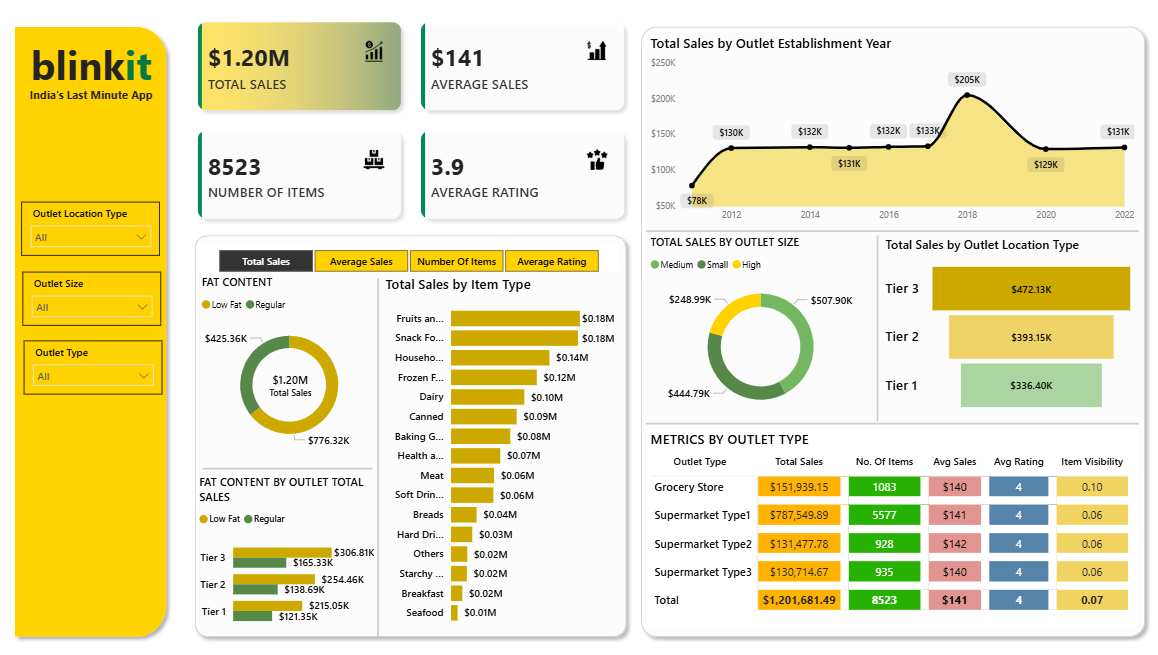

Layout of this report page (visuals, bound fields, positions):
{"tool":"powerbi","page":{"name":"Dashboard ","canvas":[1400,800],"ordinal":1},"visuals":[{"type":"shape","box":[15,25.5,199.6,750.4],"z":0},{"type":"textbox","box":[25.5,42,180.1,75],"z":1000},{"type":"textbox","box":[28.5,102.1,174.1,28.5],"z":2000},{"type":"cardVisual","fields":{"Data":["BlinkIT Grocery Data.Total Sales","BlinkIT Grocery Data.Average Sales","BlinkIT Grocery Data.Number Of Items","BlinkIT Grocery Data.Average Rating"]},"box":[214.6,0,570.3,295.7],"z":3000},{"type":"shape","box":[231.1,276.2,535.8,499.8],"z":4000},{"type":"donutChart","title":"FAT CONTENT BY TOTAL SALES","fields":{"Y":["BlinkIT Grocery Data.Total Sales"],"Category":["BlinkIT Grocery Data.Item Fat Content"]},"box":[243.1,331.7,220.6,220.6],"z":5000},{"type":"slicer","fields":{"Values":["Metrics.Metrics"]},"box":[243.1,295.7,505.8,33],"z":6000},{"type":"cardVisual","fields":{"Data":["BlinkIT Grocery Data.Total Sales"]},"box":[298.7,427.7,112.6,72],"z":7000},{"type":"clusteredBarChart","title":"FAT CONTENT BY OUTLET TOTAL SALES","fields":{"Y":["BlinkIT Grocery Data.Total Sales"],"Category":["BlinkIT Grocery Data.Outlet Location Type"],"Series":["BlinkIT Grocery Data.Item Fat Content"]},"box":[240.1,571.8,220.6,195.1],"z":8000},{"type":"shape","box":[249.1,552.3,204.1,25.5],"z":9000},{"type":"shape","box":[451.8,336.2,16.5,430.7],"z":10000},{"type":"barChart","fields":{"Y":["BlinkIT Grocery Data.Total Sales"],"Category":["BlinkIT Grocery Data.Item Type"]},"box":[463.8,331.7,285.2,430.7],"z":11000},{"type":"shape","box":[766.9,25.5,622.9,750.4],"z":12000},{"type":"lineChart","title":"Total Sales by Outlet Establishment Year","fields":{"Category":["BlinkIT Grocery Data.Outlet Establishment Year"],"Y":["BlinkIT Grocery Data.Total Sales"]},"box":[781.9,42,591.3,235.6],"z":13000},{"type":"shape","box":[781.9,267.2,591.3,25.5],"z":14000},{"type":"donutChart","title":"TOTAL SALES BY OUTLET SIZE ","fields":{"Y":["BlinkIT Grocery Data.Total Sales"],"Category":["BlinkIT Grocery Data.Outlet Size"]},"box":[781.9,283.7,275,225],"z":15000},{"type":"shape","box":[1046.1,285.2,27,223.6],"z":16000},{"type":"funnel","fields":{"Category":["BlinkIT Grocery Data.Outlet Location Type"],"Y":["BlinkIT Grocery Data.Total Sales"]},"box":[1064.1,285.2,309.2,223.6],"z":17000},{"type":"shape","box":[781.9,498.3,591.3,25.5],"z":18000},{"type":"pivotTable","title":"METRICS BY OUTLET TYPE","fields":{"Rows":["BlinkIT Grocery Data.Outlet Type"],"Values":["BlinkIT Grocery Data.Total Sales","BlinkIT Grocery Data.Number Of Items","BlinkIT Grocery Data.Average Sales","BlinkIT Grocery Data.Average Rating","Avg(BlinkIT Grocery Data.Item Visibility)"]},"box":[781.9,517.8,591.3,238.6],"z":19000},{"type":"slicer","fields":{"Values":["BlinkIT Grocery Data.Outlet Location Type"]},"box":[31.5,244.6,166.6,64.5],"z":19001},{"type":"slicer","fields":{"Values":["BlinkIT Grocery Data.Outlet Size"]},"box":[33,328.7,166.6,64.5],"z":19002},{"type":"slicer","fields":{"Values":["BlinkIT Grocery Data.Outlet Type"]},"box":[34.5,411.2,166.6,64.5],"z":19003}]}

Visuals, with their boxes in screenshot pixels (x1, y1, x2, y2), scaled from the page's 1400x800 canvas onto the 1158x655 screenshot:
shape: detection(12, 21, 178, 635)
textbox: detection(21, 34, 170, 96)
textbox: detection(24, 84, 168, 107)
cardVisual - BlinkIT Grocery Data.Total Sales x BlinkIT Grocery Data.Average Sales: detection(178, 0, 649, 242)
shape: detection(191, 226, 634, 635)
"FAT CONTENT BY TOTAL SALES" donutChart: detection(201, 272, 384, 452)
slicer - Metrics.Metrics: detection(201, 242, 619, 269)
cardVisual - BlinkIT Grocery Data.Total Sales: detection(247, 350, 340, 409)
"FAT CONTENT BY OUTLET TOTAL SALES" clusteredBarChart: detection(199, 468, 381, 628)
shape: detection(206, 452, 375, 473)
shape: detection(374, 275, 387, 628)
barChart - BlinkIT Grocery Data.Total Sales x BlinkIT Grocery Data.Item Type: detection(384, 272, 620, 624)
shape: detection(634, 21, 1150, 635)
"Total Sales by Outlet Establishment Year" lineChart: detection(647, 34, 1136, 227)
shape: detection(647, 219, 1136, 240)
"TOTAL SALES BY OUTLET SIZE " donutChart: detection(647, 232, 874, 416)
shape: detection(865, 234, 888, 417)
funnel - BlinkIT Grocery Data.Outlet Location Type x BlinkIT Grocery Data.Total Sales: detection(880, 234, 1136, 417)
shape: detection(647, 408, 1136, 429)
"METRICS BY OUTLET TYPE" pivotTable: detection(647, 424, 1136, 619)
slicer - BlinkIT Grocery Data.Outlet Location Type: detection(26, 200, 164, 253)
slicer - BlinkIT Grocery Data.Outlet Size: detection(27, 269, 165, 322)
slicer - BlinkIT Grocery Data.Outlet Type: detection(29, 337, 166, 389)
